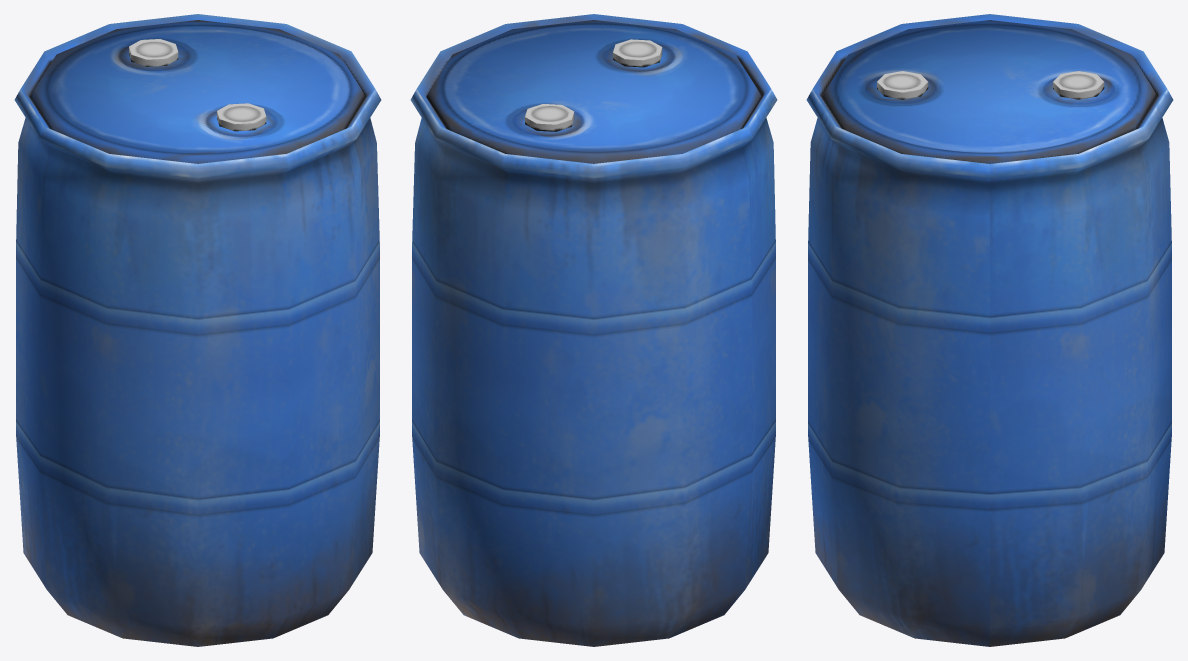
Rendered from waterBarrel.fbx.
The picture shows the model from 3 angles, left to right: view 1: azimuth 30°, elevation 25°; view 2: azimuth 150°, elevation 25°; view 3: azimuth 270°, elevation 25°; orthographic projection.
Parts seen in each view (by area): view 1: waterBarrel; view 2: waterBarrel; view 3: waterBarrel.
Part boxes in pixels (x1=…): waterBarrel: x1=14, y1=14, x2=381, y2=646; waterBarrel: x1=410, y1=14, x2=777, y2=646; waterBarrel: x1=806, y1=14, x2=1173, y2=646.
Bounding box in the file's own units: 62.13 × 93.69 × 62.13.
